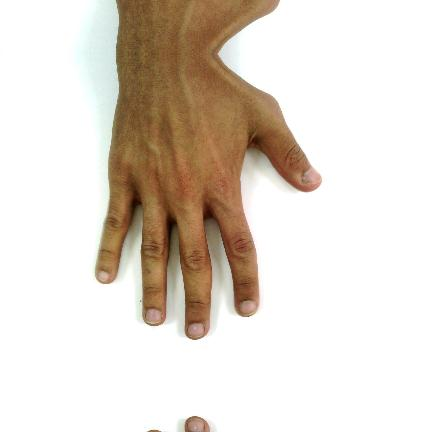Nail: (303, 166, 322, 184), (144, 309, 163, 325), (187, 323, 205, 338), (239, 301, 257, 316), (187, 418, 205, 432), (97, 271, 109, 282), (149, 431, 157, 432)
